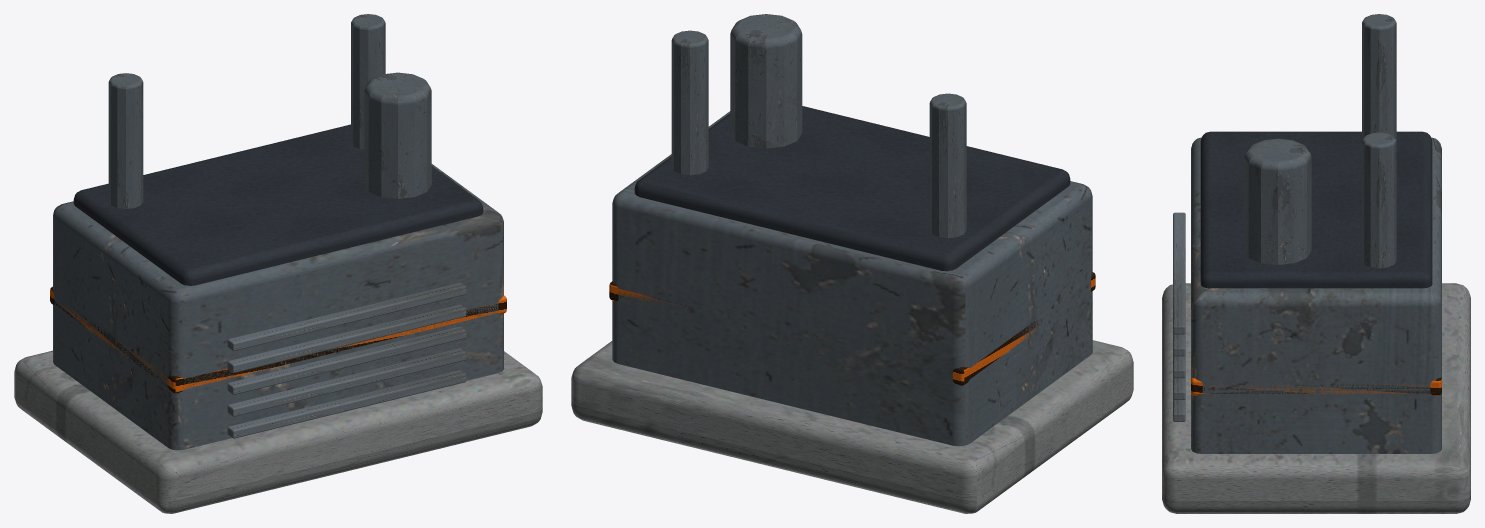
The model's file is cover_machine.glb.
3 renders of one model, left to right at view 1: azimuth 30°, elevation 25°; view 2: azimuth 150°, elevation 25°; view 3: azimuth 270°, elevation 25°, orthographic. The views are drawn at different scales.
Visible parts, largest first — view 1: CoverMachineBody, CoverMachineBase, CoverMachineTop, CoverMachineStack, CoverPipe-14, CoverVent01, CoverVent03, CoverVent02, CoverVent05, CoverVent04, CoverMachineHazard, CoverPipe14; view 2: CoverMachineBody, CoverMachineBase, CoverMachineTop, CoverMachineStack, CoverPipe-14, CoverPipe14, CoverMachineHazard; view 3: CoverMachineBody, CoverMachineBase, CoverMachineTop, CoverMachineStack, CoverPipe14, CoverPipe-14, CoverVent05, CoverMachineHazard.
Boxes of the visible parts, x1=… form: CoverMachineBody: x1=53, y1=164, x2=503, y2=450; CoverMachineBase: x1=14, y1=350, x2=542, y2=513; CoverMachineTop: x1=73, y1=124, x2=483, y2=285; CoverMachineStack: x1=364, y1=72, x2=431, y2=198; CoverPipe-14: x1=108, y1=73, x2=143, y2=208; CoverVent01: x1=227, y1=370, x2=466, y2=438; CoverVent03: x1=227, y1=326, x2=466, y2=394; CoverVent02: x1=227, y1=348, x2=466, y2=416; CoverVent05: x1=227, y1=282, x2=466, y2=351; CoverVent04: x1=227, y1=304, x2=466, y2=372; CoverMachineHazard: x1=50, y1=286, x2=506, y2=393; CoverPipe14: x1=351, y1=14, x2=385, y2=149; CoverMachineBody: x1=612, y1=111, x2=1092, y2=446; CoverMachineBase: x1=571, y1=340, x2=1133, y2=513; CoverMachineTop: x1=634, y1=106, x2=1070, y2=271; CoverMachineStack: x1=730, y1=14, x2=802, y2=148; CoverPipe-14: x1=929, y1=93, x2=966, y2=238; CoverPipe14: x1=671, y1=30, x2=708, y2=175; CoverMachineHazard: x1=609, y1=272, x2=1095, y2=385; CoverMachineBody: x1=1191, y1=137, x2=1441, y2=453; CoverMachineBase: x1=1162, y1=283, x2=1470, y2=513; CoverMachineTop: x1=1200, y1=131, x2=1432, y2=288; CoverMachineStack: x1=1244, y1=138, x2=1311, y2=264; CoverPipe14: x1=1362, y1=132, x2=1396, y2=268; CoverPipe-14: x1=1362, y1=14, x2=1396, y2=140; CoverVent05: x1=1173, y1=212, x2=1185, y2=334; CoverMachineHazard: x1=1191, y1=377, x2=1441, y2=395.
Bounding box in the file's own units: 4.6 × 3.95 × 3.2.
5 materials, 5 textured.
